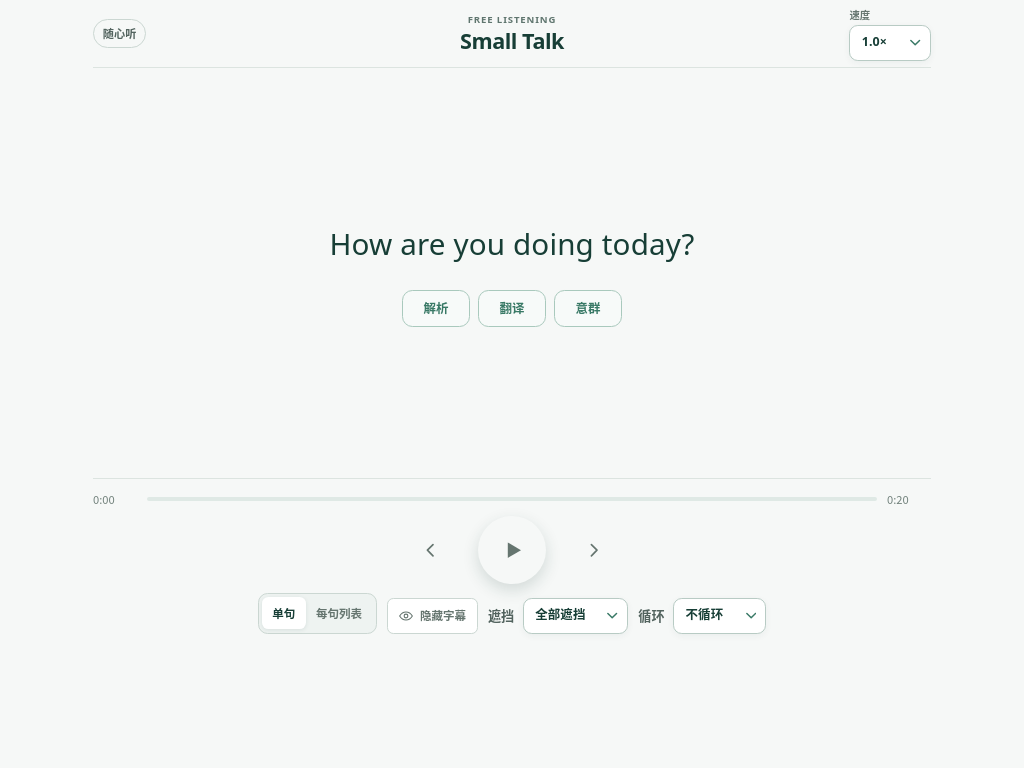
Test: FreeListening › switches to a sentence list and selects a row
Click the button "每句列表" at (339, 613), box 306,597 -> 372,629
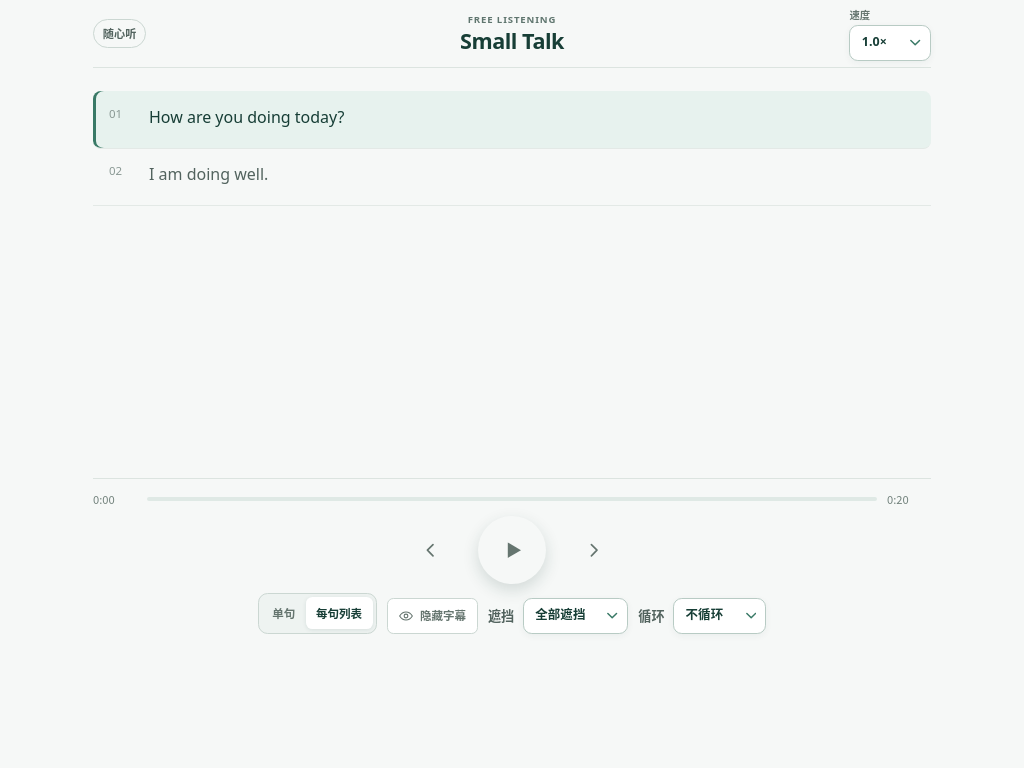
Click the button "02 I am doing well." at (209, 174), box 93,149 -> 931,206
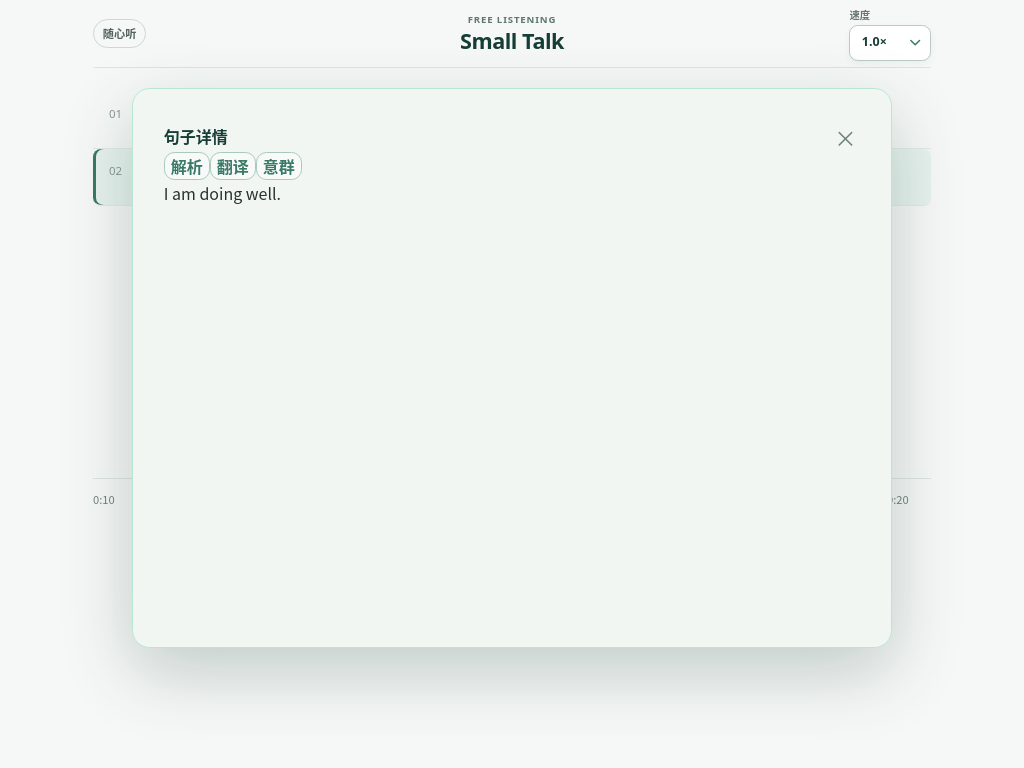
Check: the element "句子详情" is shown, box 132,88 -> 892,648
Click the button named "关闭句子详情" at (844, 136), box 828,120 -> 860,152
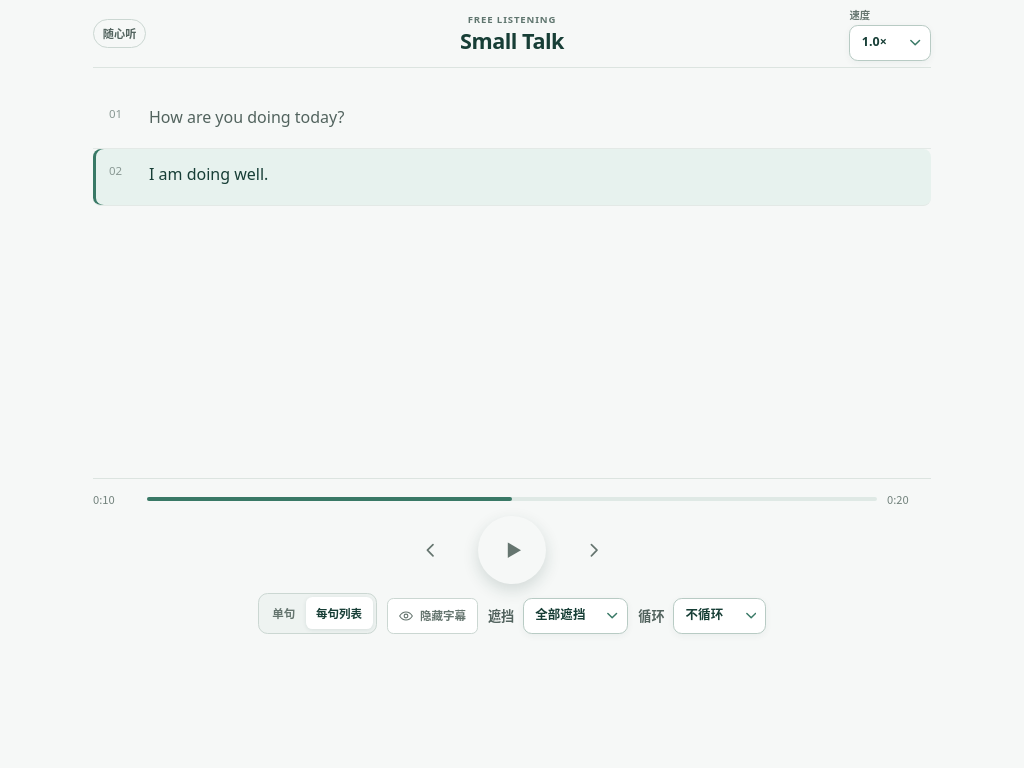
Check: the text "句子详情" is gone
